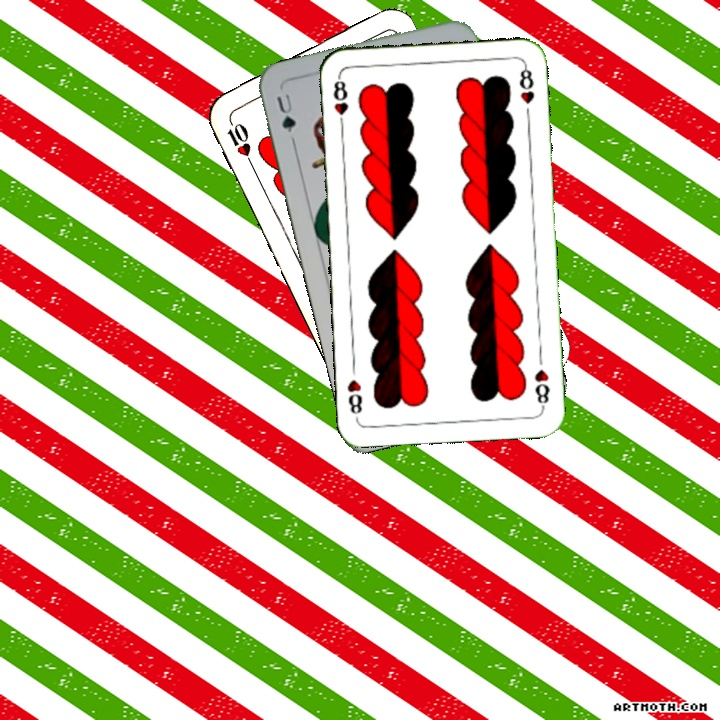GU: (272, 89, 299, 135)
H10: (223, 112, 256, 168)
H8: (329, 72, 351, 131), (531, 365, 553, 411)
